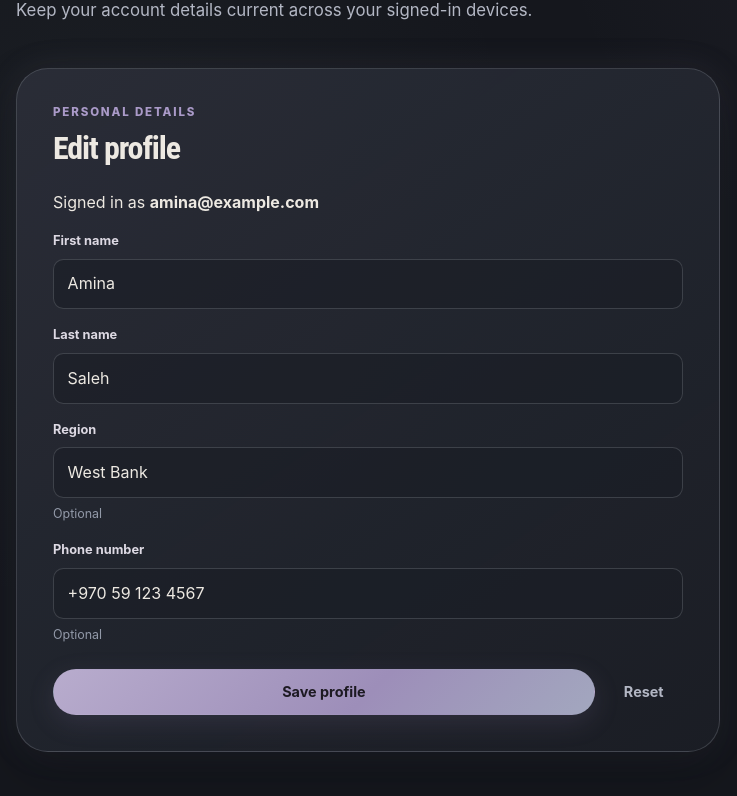
ProfilePage › rejects a phone value made only of punctuation
The image size is (737, 796).
(page scrolled)
Replace the text in the field labelled "Phone number" with "---" at (368, 593), box [53,568,683,619]
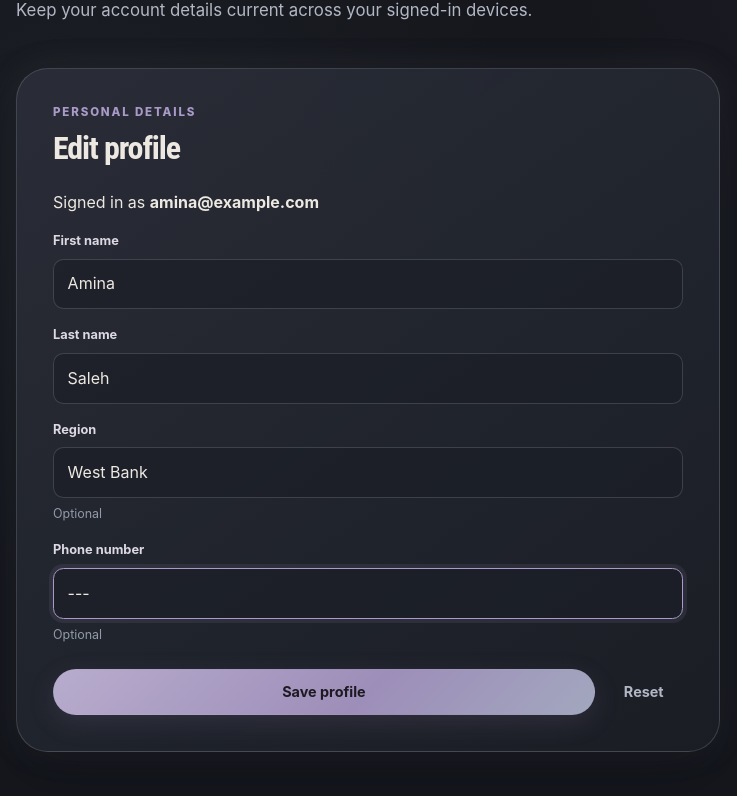
Click the button "Save profile" at (324, 692), box [53,669,595,715]
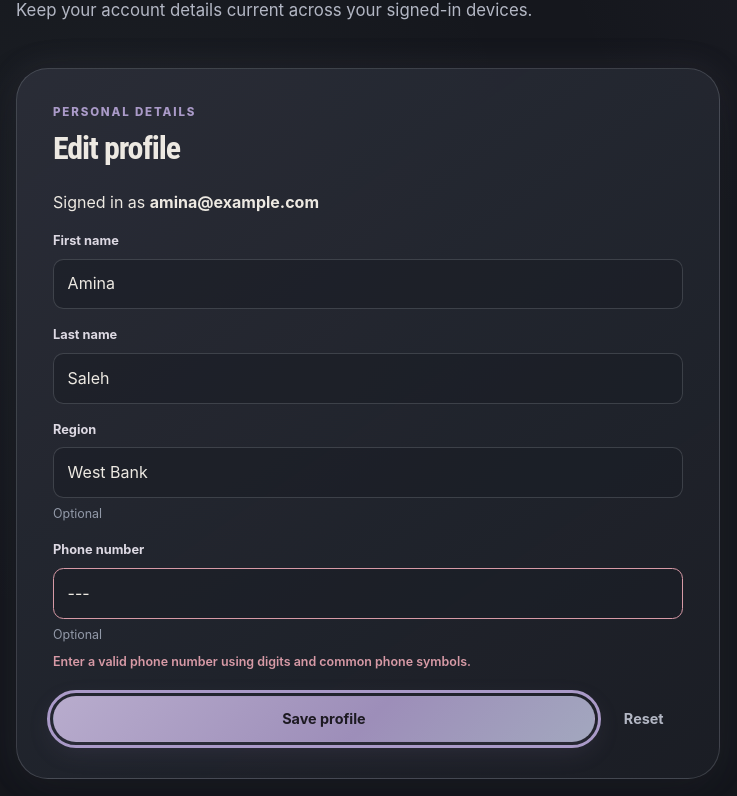
Now the text "Enter a valid phone number" is shown, box [53,654,471,669]
